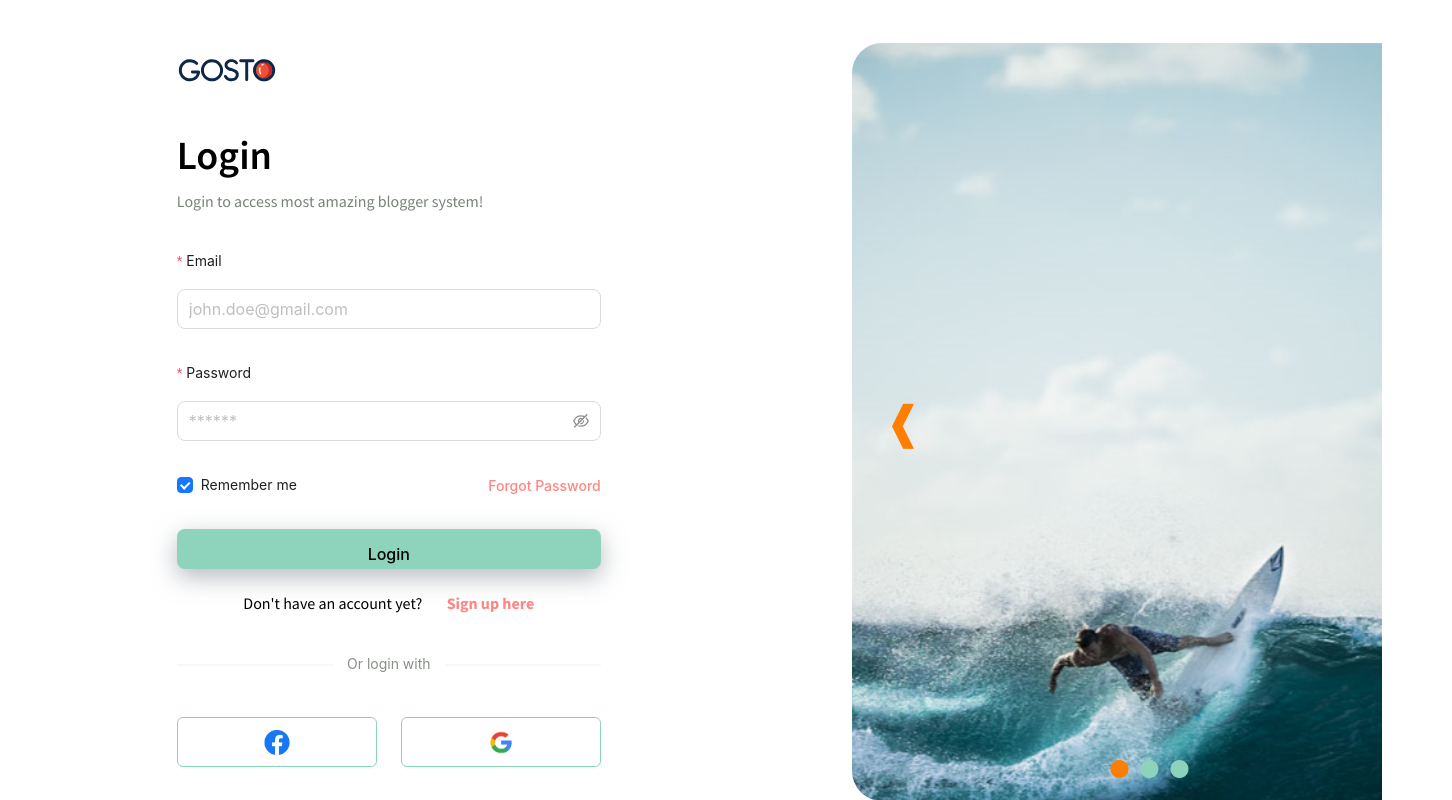
Role User › 5. Đăng nhập với tài khoản User (để trống cả hai trường Email và Password)
Click the button with id "btn-login" at (389, 549), box x1=177 y1=529 x2=601 y2=569
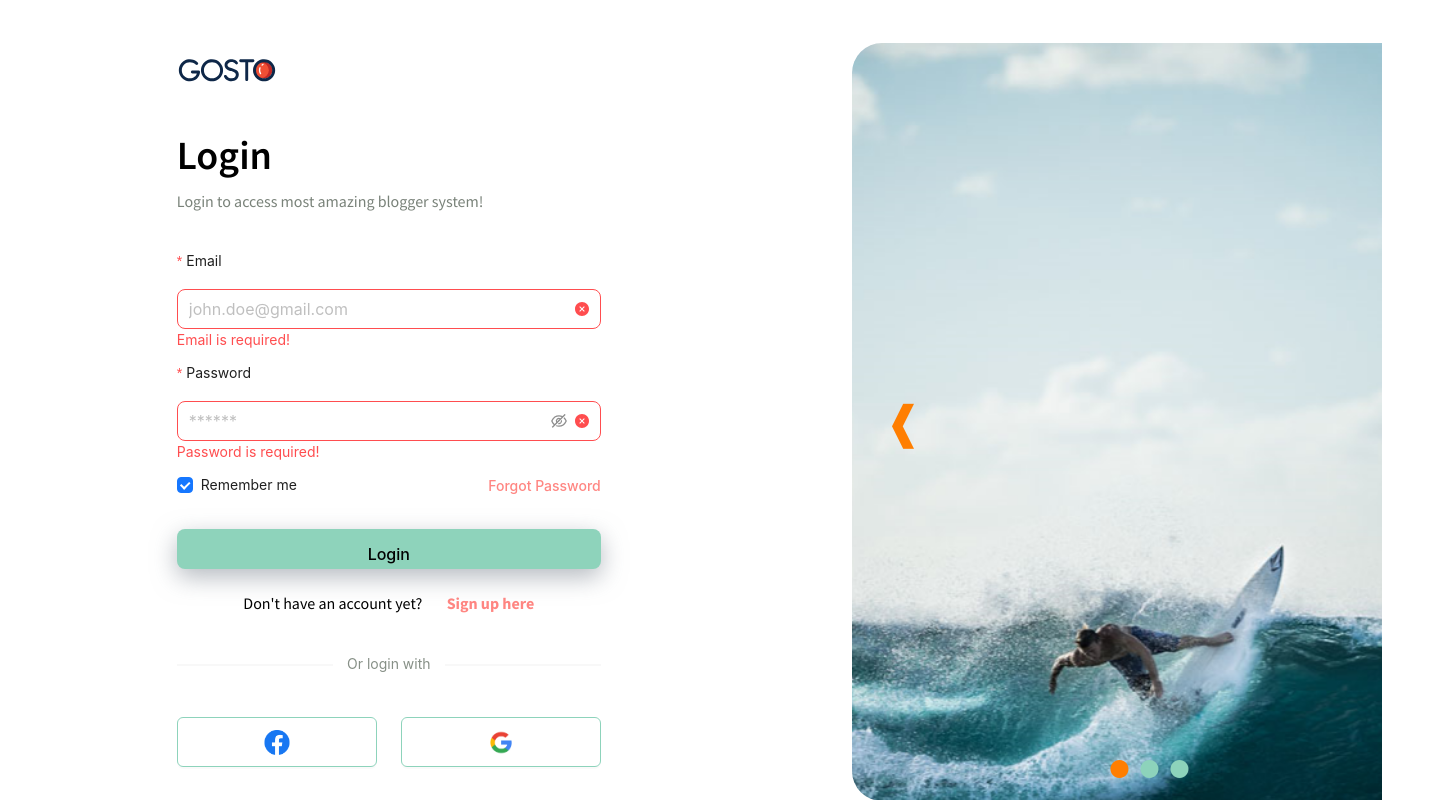
expect the text "Email is required!" is shown: met, box x1=177 y1=331 x2=290 y2=348
